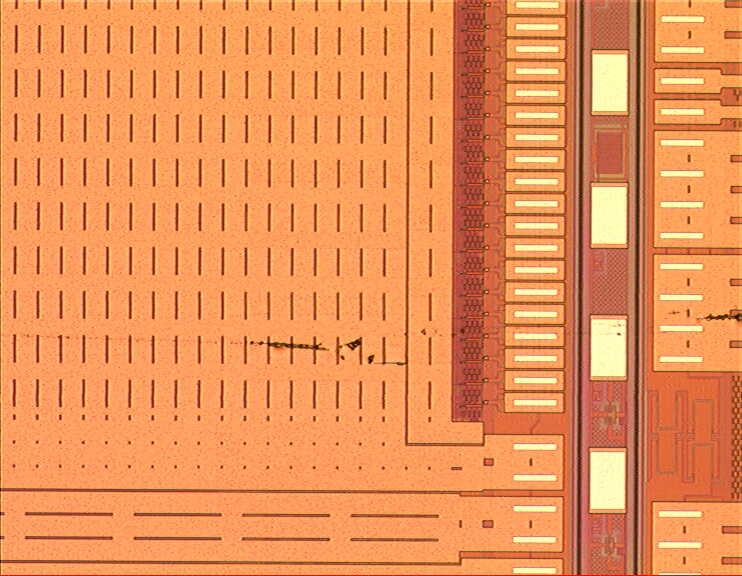SCRATCH: (1, 307, 742, 366)
